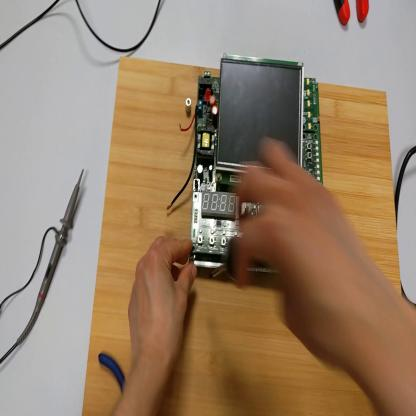hand: (229, 140, 371, 367), (128, 238, 197, 371)
low voltage board: (168, 53, 325, 272)
oscilloscope probe tip: (19, 162, 86, 347)
pliers: (336, 2, 372, 31), (100, 355, 125, 394)
screwdriver-: (213, 241, 278, 285)
working area: (84, 56, 404, 416)
